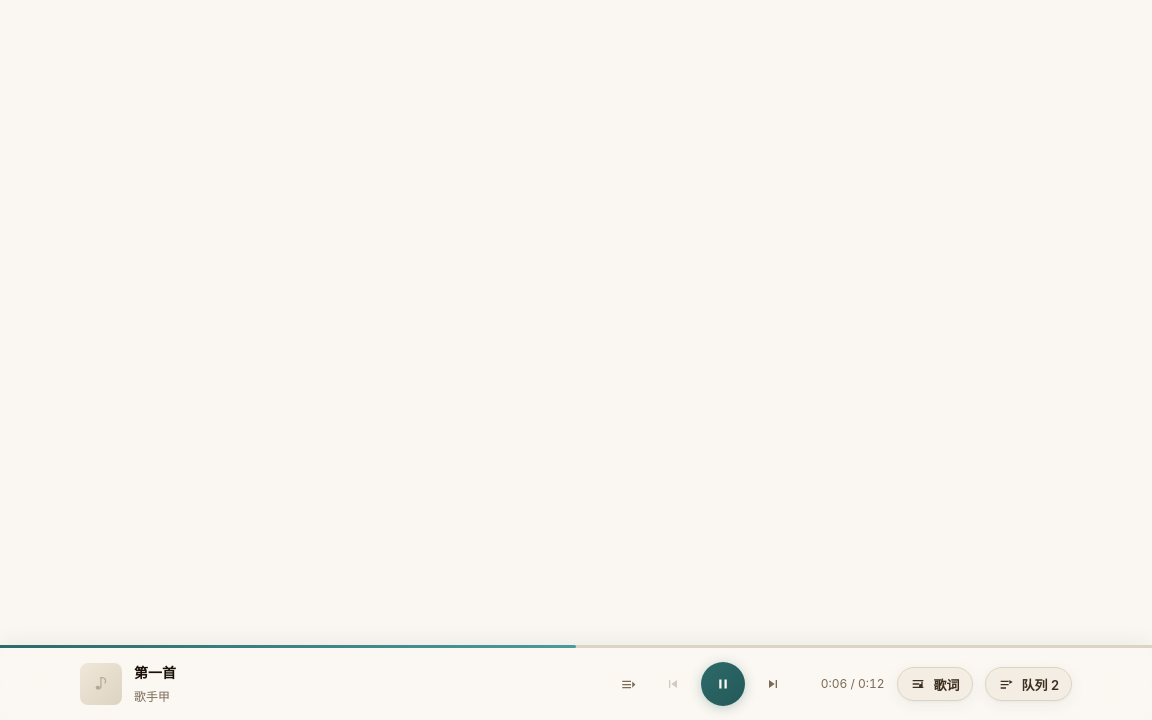
Test case: Player › loads lyrics into the lyrics drawer and highlights the active line
The width and height of the screenshot is (1152, 720).
Click the button "歌词". click: (935, 684)
box: [897, 667, 973, 701]
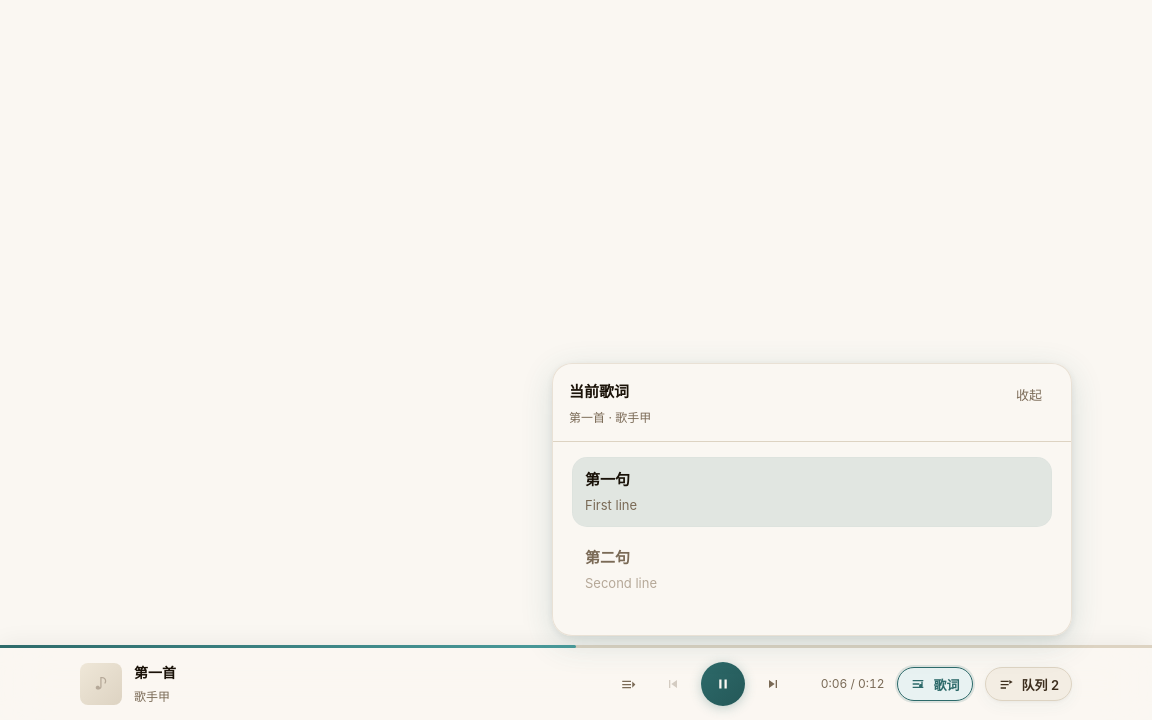
Expected: the dialog "当前歌词 第一首 · 歌手甲 收起 第一句 First line 第二句 Second line" is shown, [552, 363, 1072, 636]
Expected: the text "第一句" is shown, [585, 470, 630, 489]
Expected: the text "First line" is shown, [585, 497, 637, 513]
